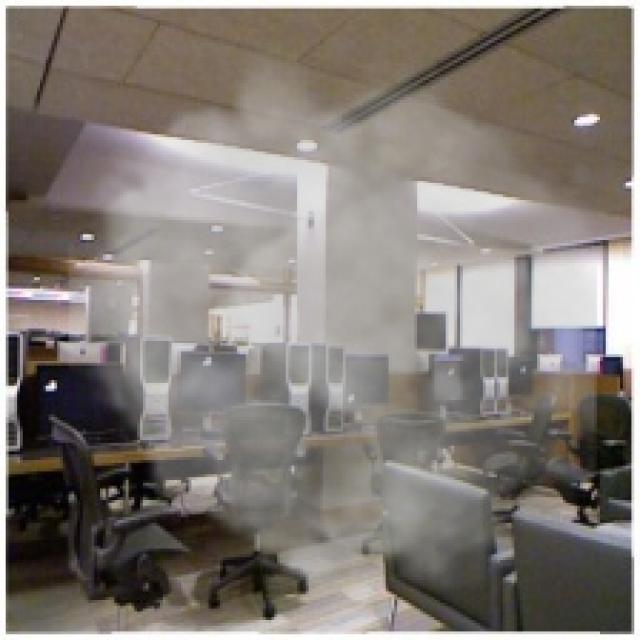smoke: (69, 43, 597, 611)
